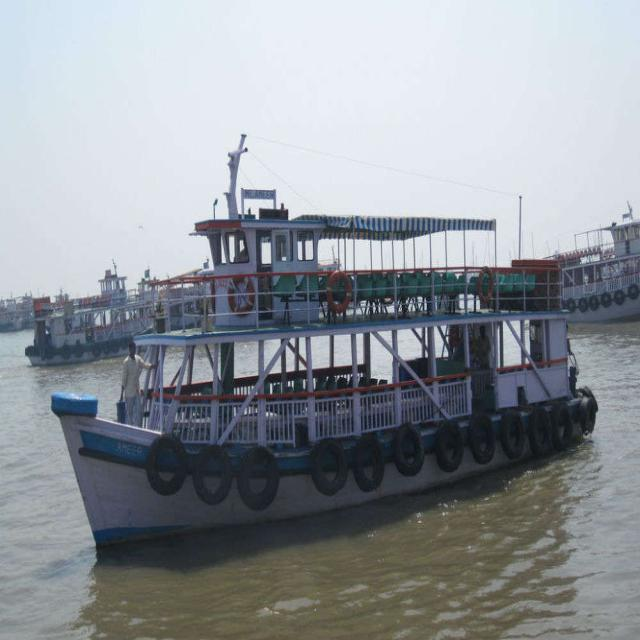houseboat: (60, 174, 601, 557), (20, 258, 156, 361), (534, 204, 640, 316)
